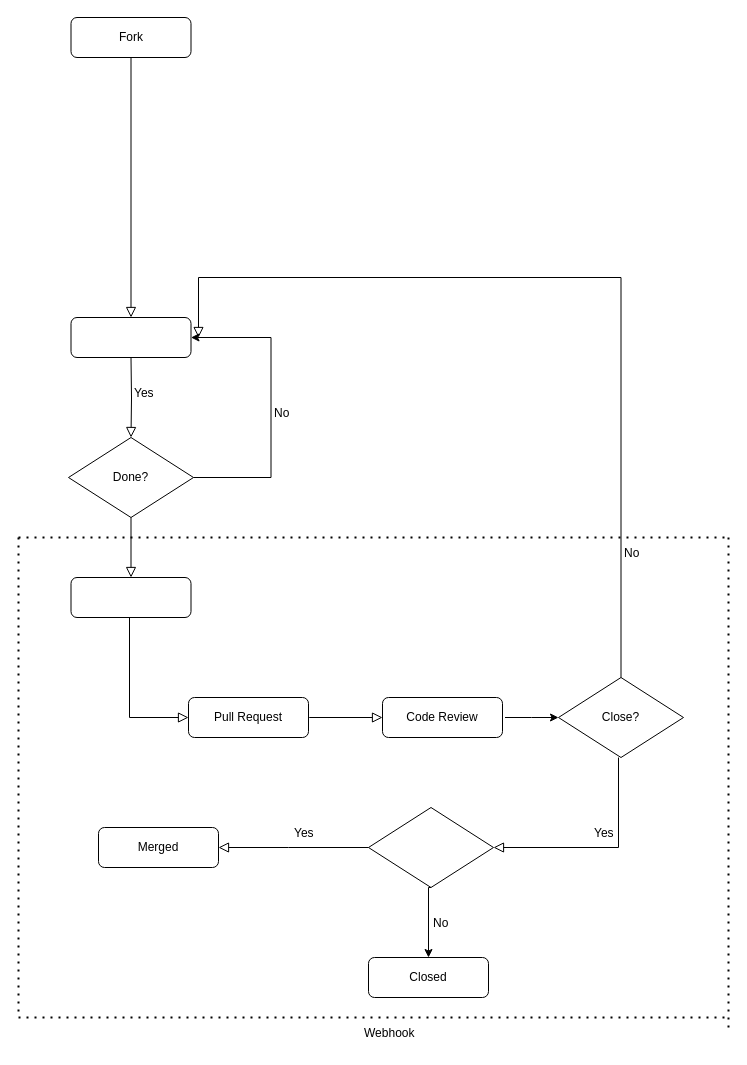
Some shapes in this 747 by 1065 pixel diagram are drawn without their labels. The centre of each missing label's shape, as x and y in pixels:
Commit: [130,337]
Merge?: [431,847]
Push: [130,597]
